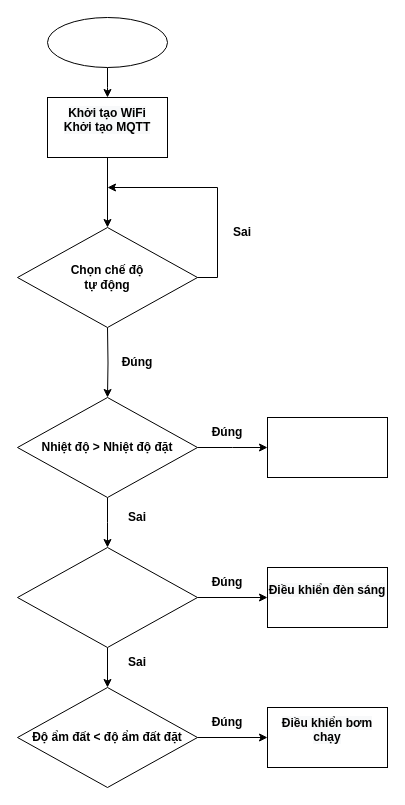
The diagram is 405 pixels wide and 805 high, and some of its shapes have lost their labels. Each missing label, with the centre of its shape:
"Bắt đầu" belongs at point 107,42.
"Ánh sáng < Ánh sáng đặt" belongs at point 107,597.
"Điều khiển quạt chạy" belongs at point 327,447.
